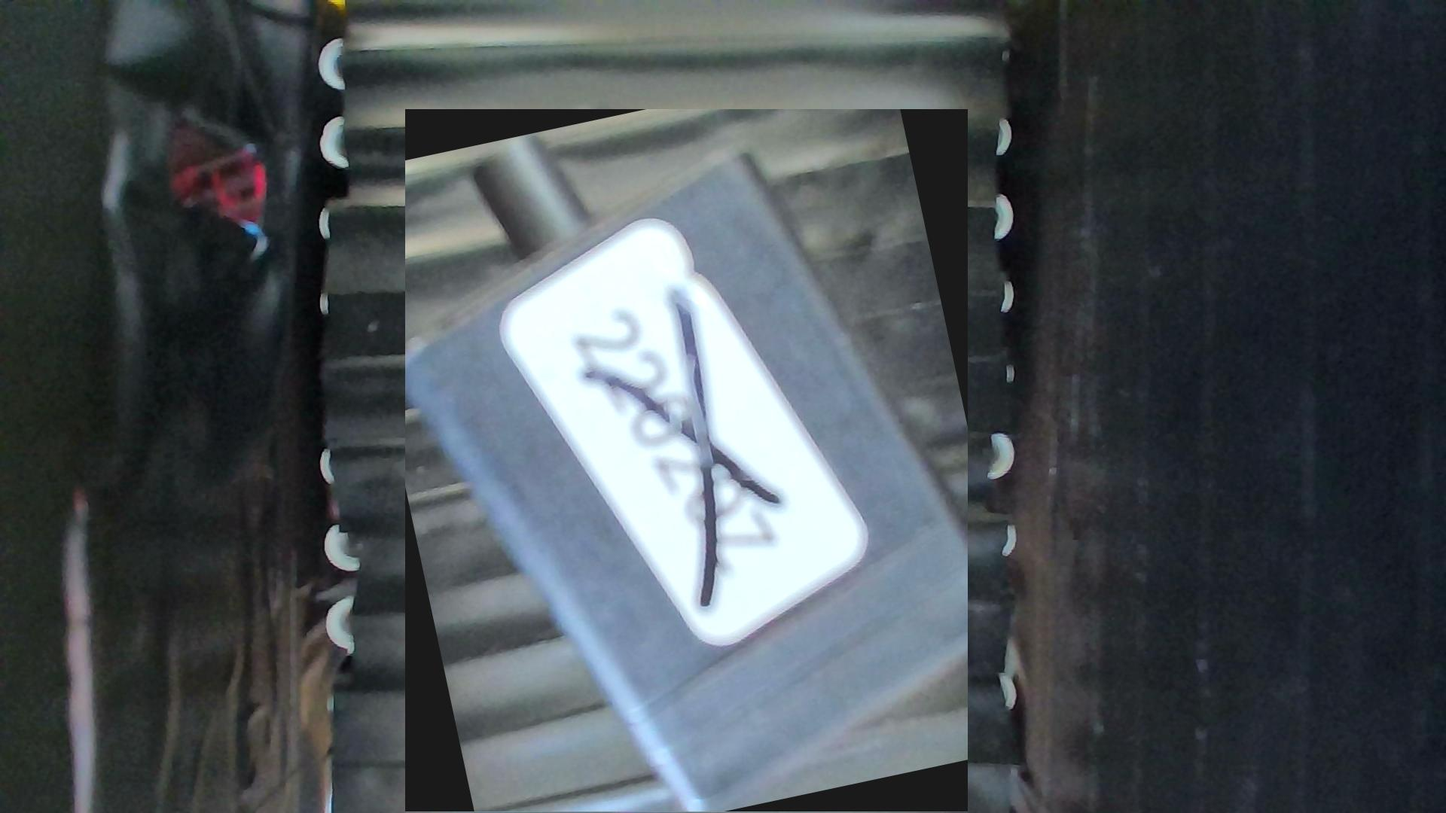motor: (405, 110, 968, 813)
